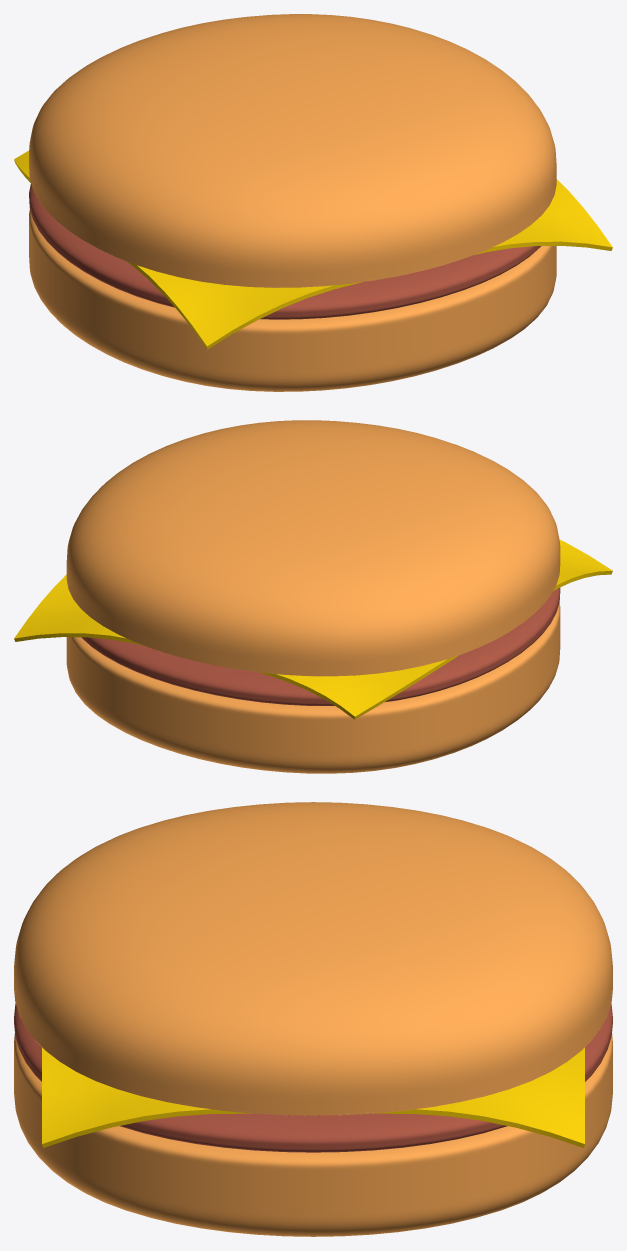
File: hamburger.glb
The picture shows the model from 3 angles, top to bottom: view 1: azimuth 30°, elevation 25°; view 2: azimuth 150°, elevation 25°; view 3: azimuth 270°, elevation 25°; orthographic projection. The views are drawn at different scales.
Visible parts, largest first — view 1: Cube.001, Cube, Cube.002, Plane; view 2: Cube.001, Cube, Cube.002, Plane; view 3: Cube.001, Cube, Plane, Cube.002.
Boxes of the visible parts, x1,y1,x2,y2 form: Cube.001: [29, 14, 556, 287]; Cube: [29, 210, 556, 391]; Cube.002: [29, 184, 540, 319]; Plane: [14, 150, 612, 349]; Cube.001: [66, 420, 560, 676]; Cube: [66, 603, 560, 773]; Cube.002: [81, 587, 560, 705]; Plane: [14, 539, 612, 719]; Cube.001: [14, 802, 612, 1115]; Cube: [14, 1034, 612, 1236]; Plane: [42, 1047, 584, 1147]; Cube.002: [14, 1003, 612, 1152].
Bounding box in the file's own units: 9.15 × 4.43 × 9.15.
